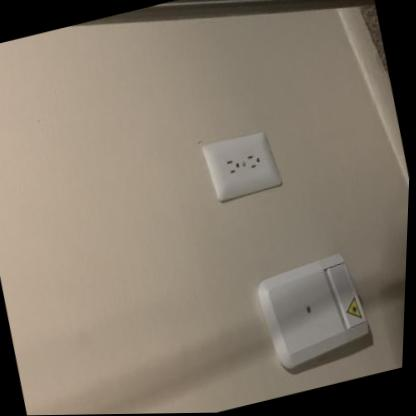OUTLET: (198, 126, 286, 203)
